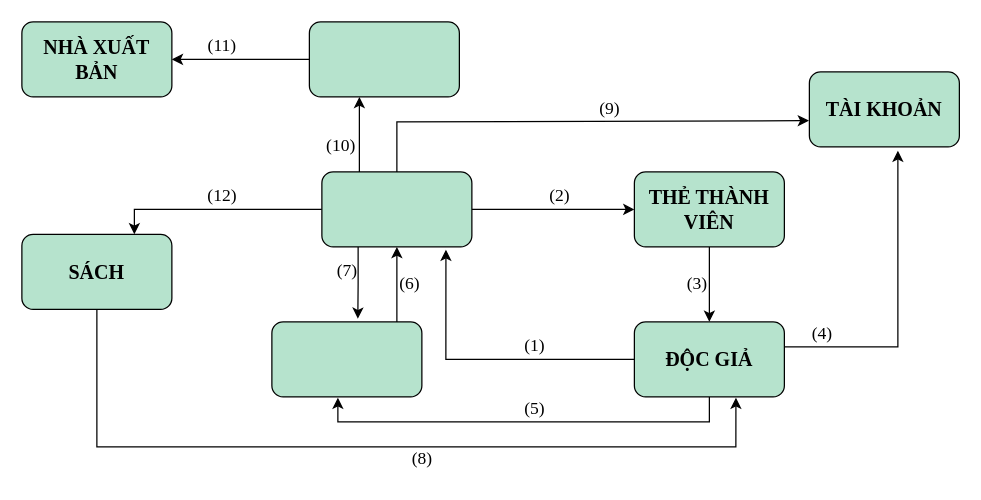
Some shapes in this 981 by 500 pixel diagram are drawn without their labels. Here are the shapes that lost their labels. From the top down, the box of each, then its label:
(308, 21, 459, 97): PHIẾU NHẬP SÁCH
(321, 171, 472, 247): THỦ THƯ
(271, 321, 422, 397): PHIẾU MƯỢN SÁCH
